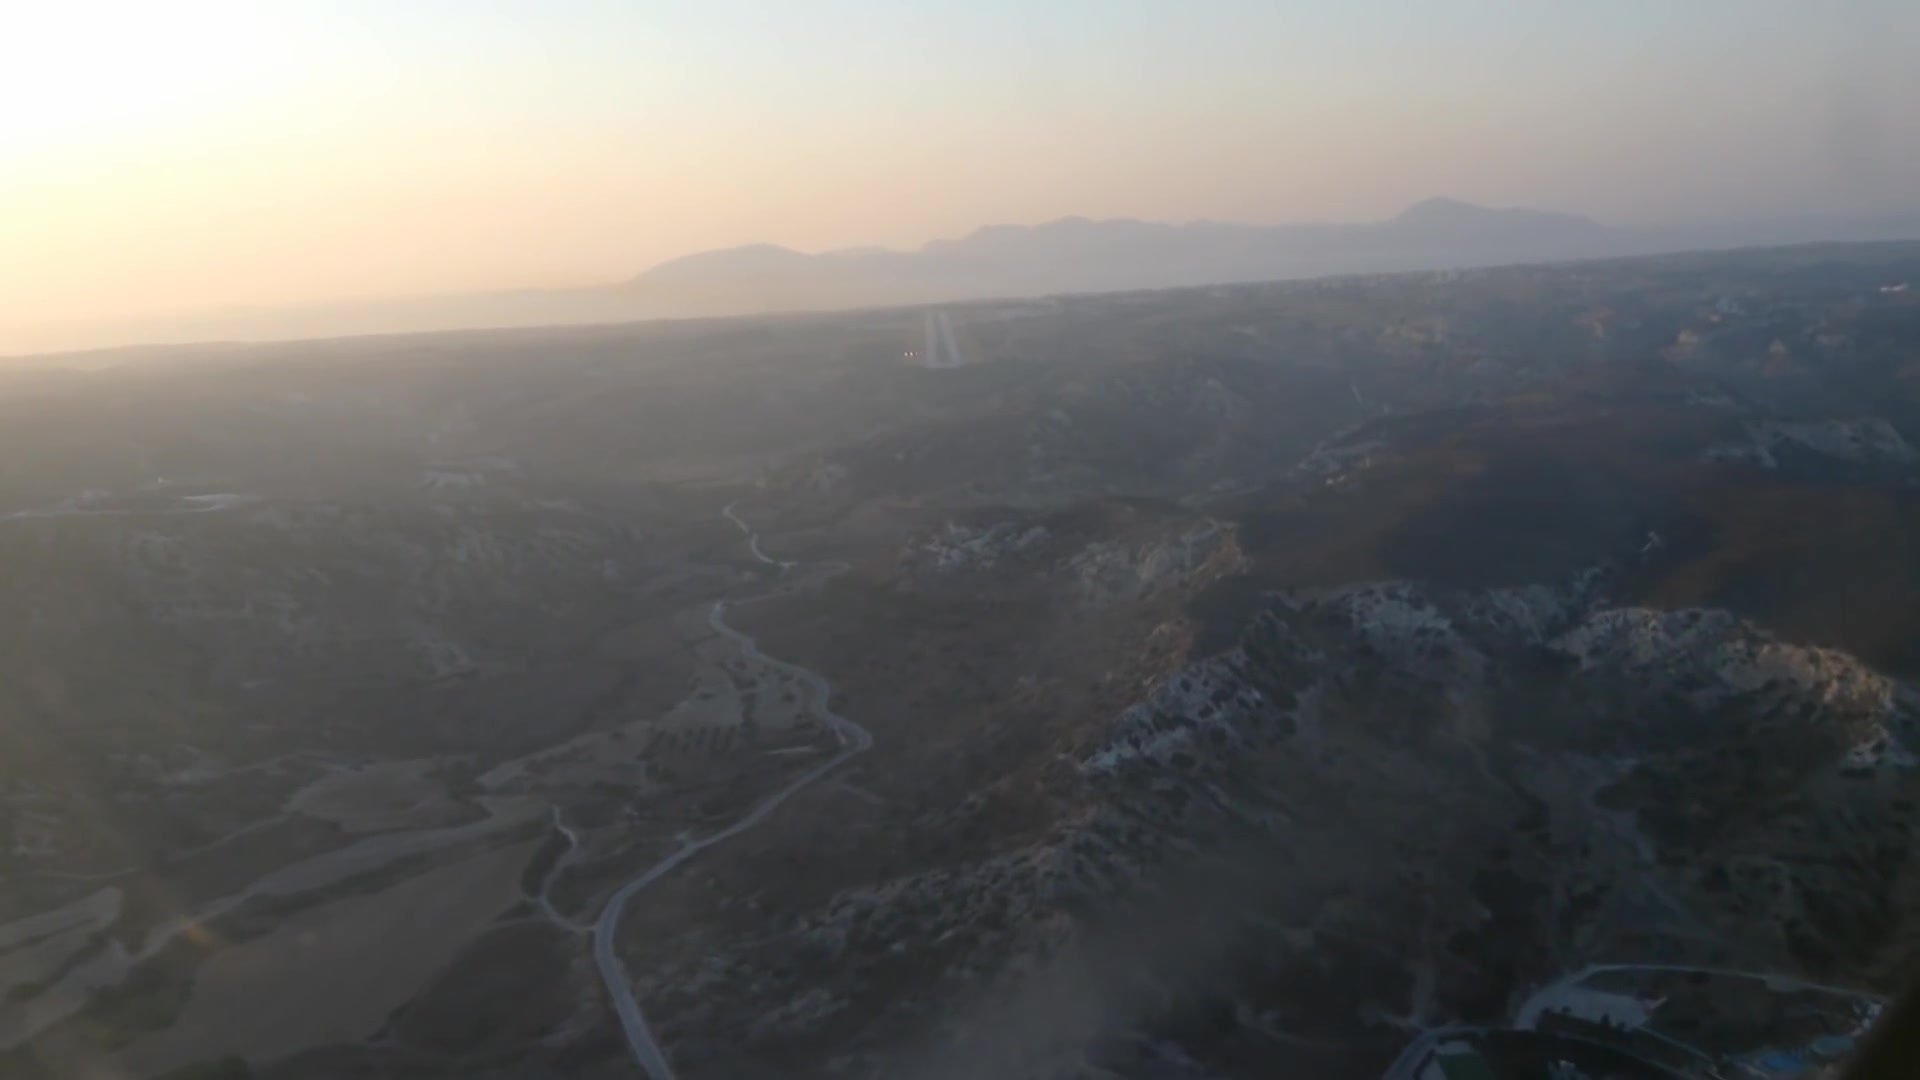runway: (920, 306, 963, 375)
